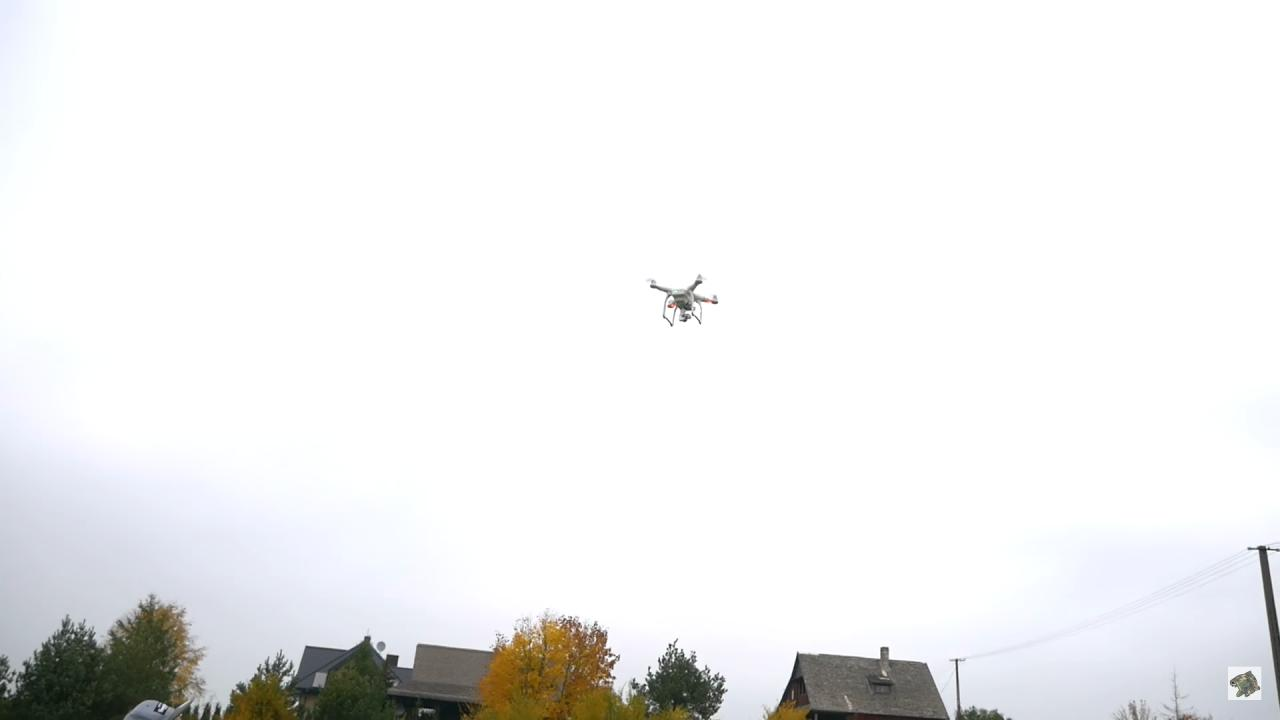Drone: (637, 267, 725, 340)
